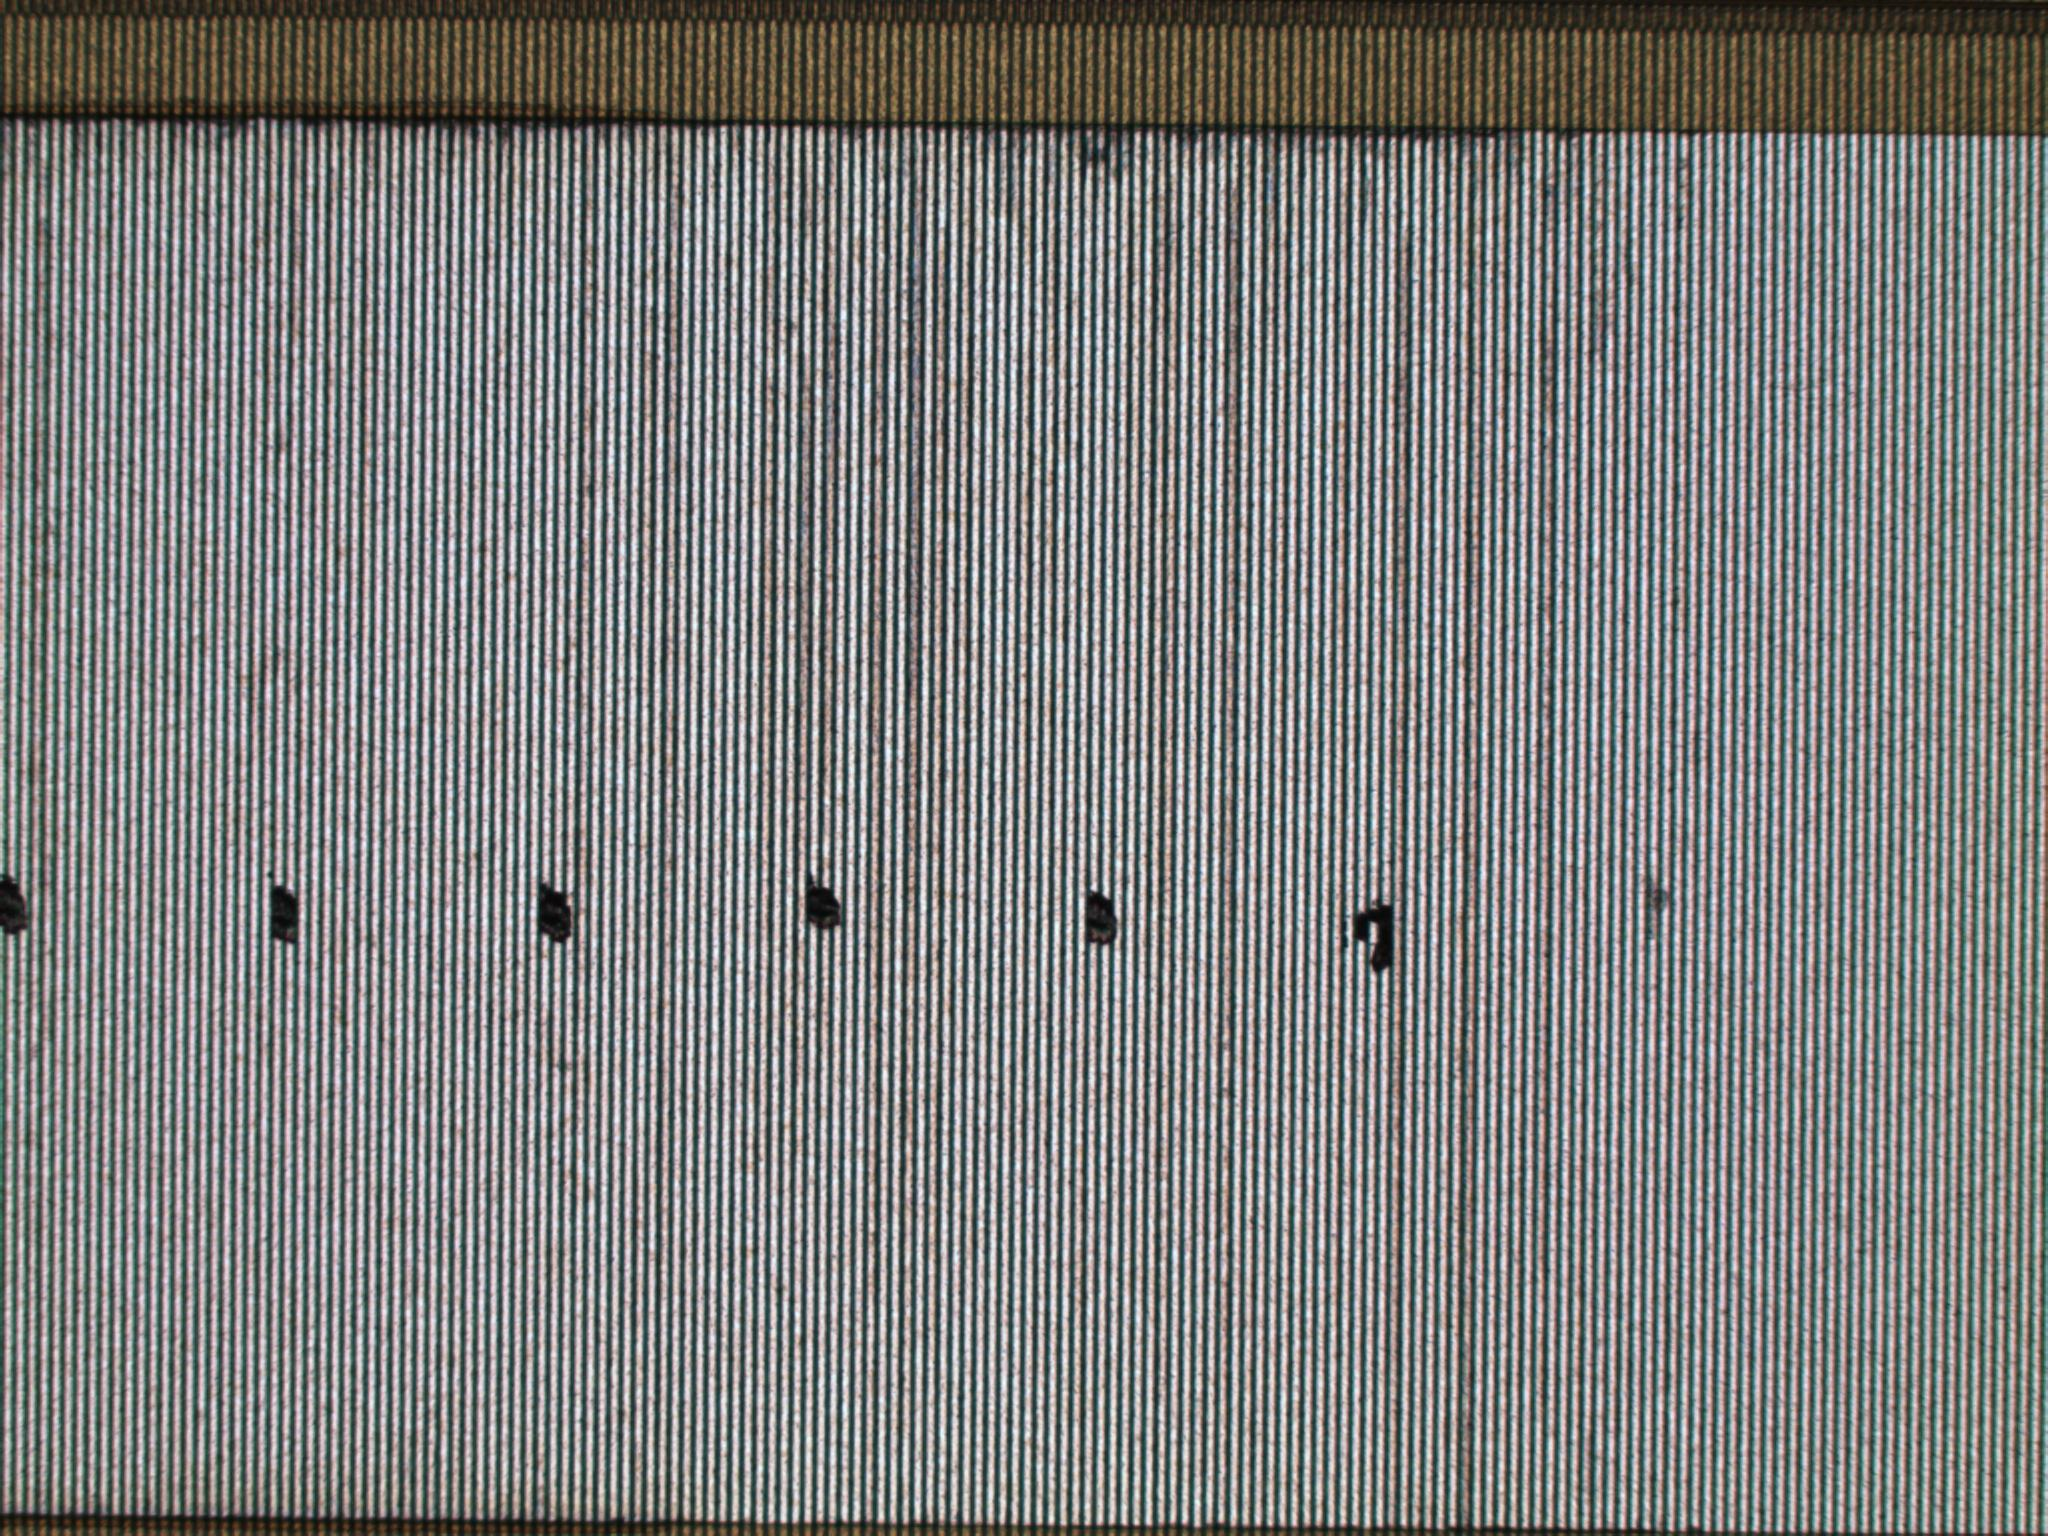SEZ BURNT: (2, 2, 1750, 1536)
